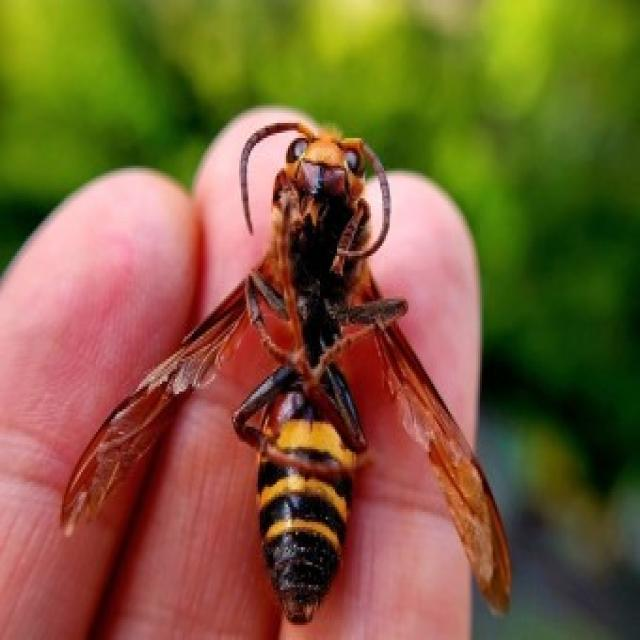Wasp: (228, 116, 414, 630)
